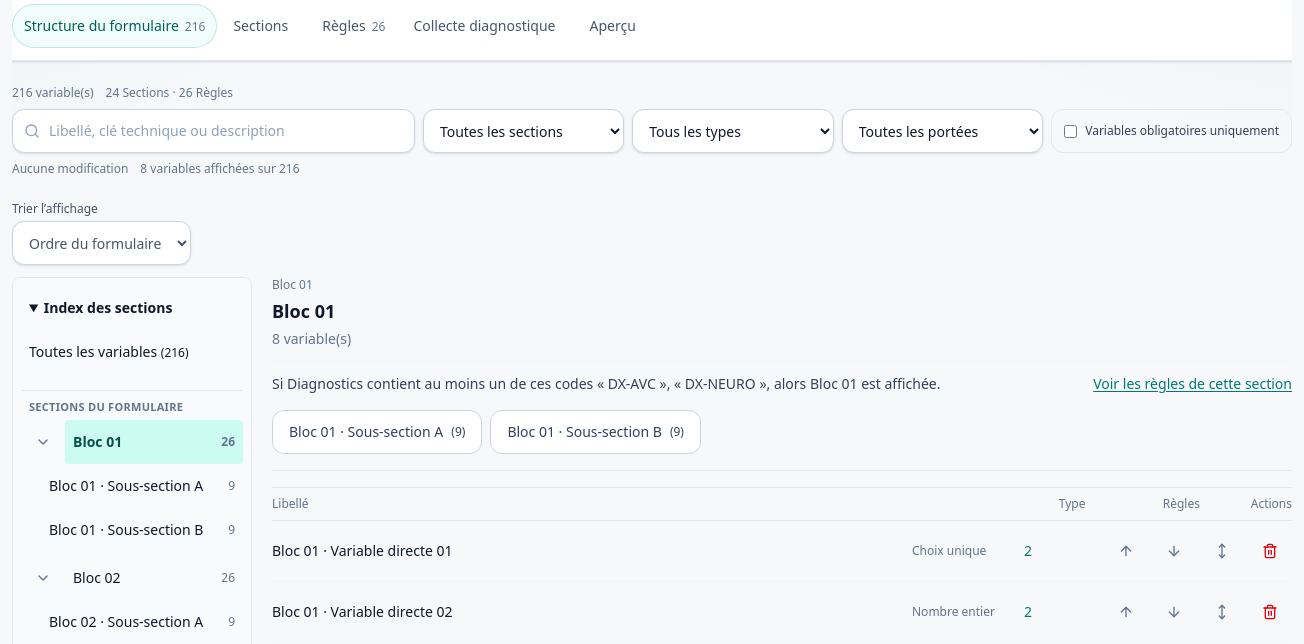
Test: Éditeur de registre — structure du formulaire › la gestion des sections devient un espace de menu dédié
The image size is (1304, 644).
What coordinates should you click on to do the following:
click the tab "Sections"
I would click on:
 (264, 26)
Its box is [221,4,306,48].
(page scrolled)
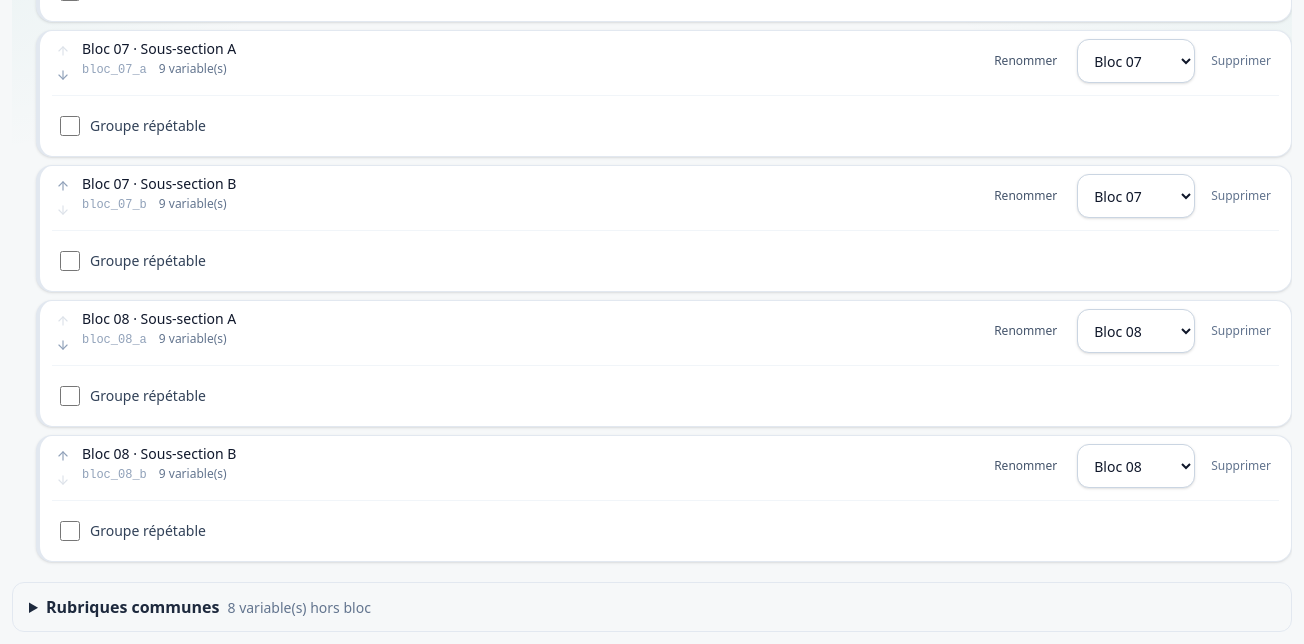
expect the heading "Rubriques communes" is shown: met, box [46,596,371,618]
